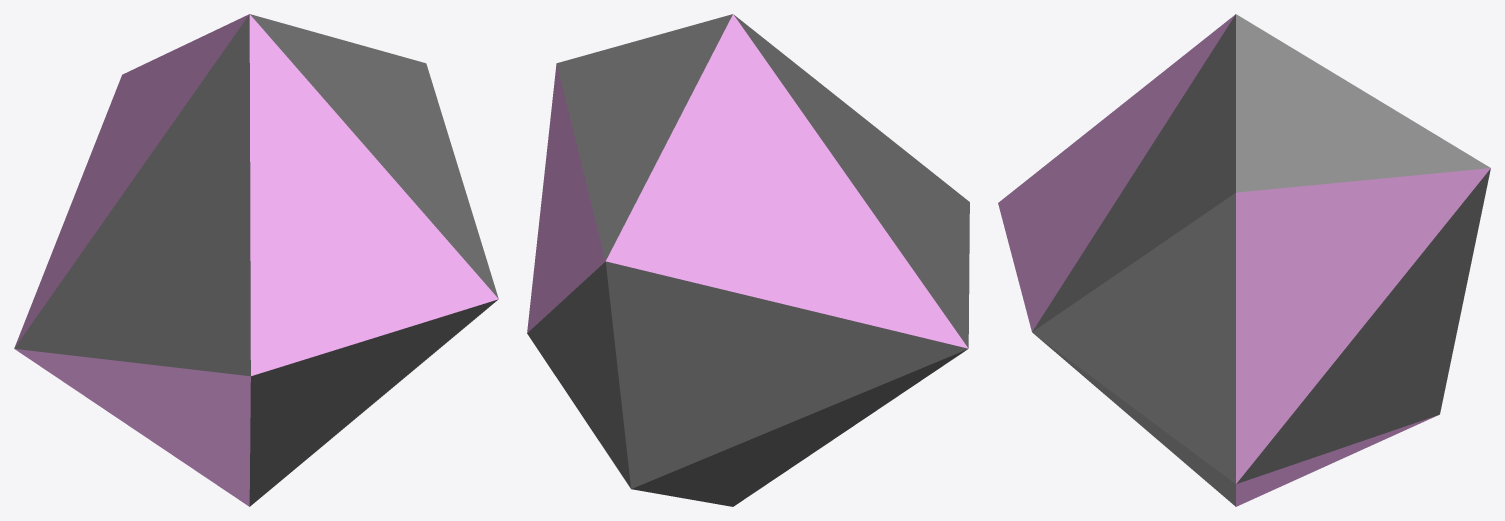
The model's file is rockhermit.obj.
3 renders of one model, left to right at view 1: azimuth 30°, elevation 25°; view 2: azimuth 150°, elevation 25°; view 3: azimuth 270°, elevation 25°, orthographic.
Size of the model in its own units: 150 by 160 by 145.
